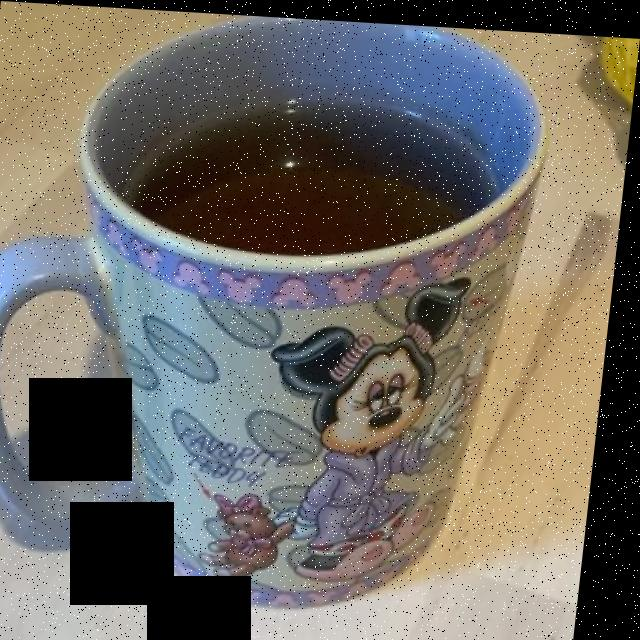tea: (139, 128, 467, 249)
